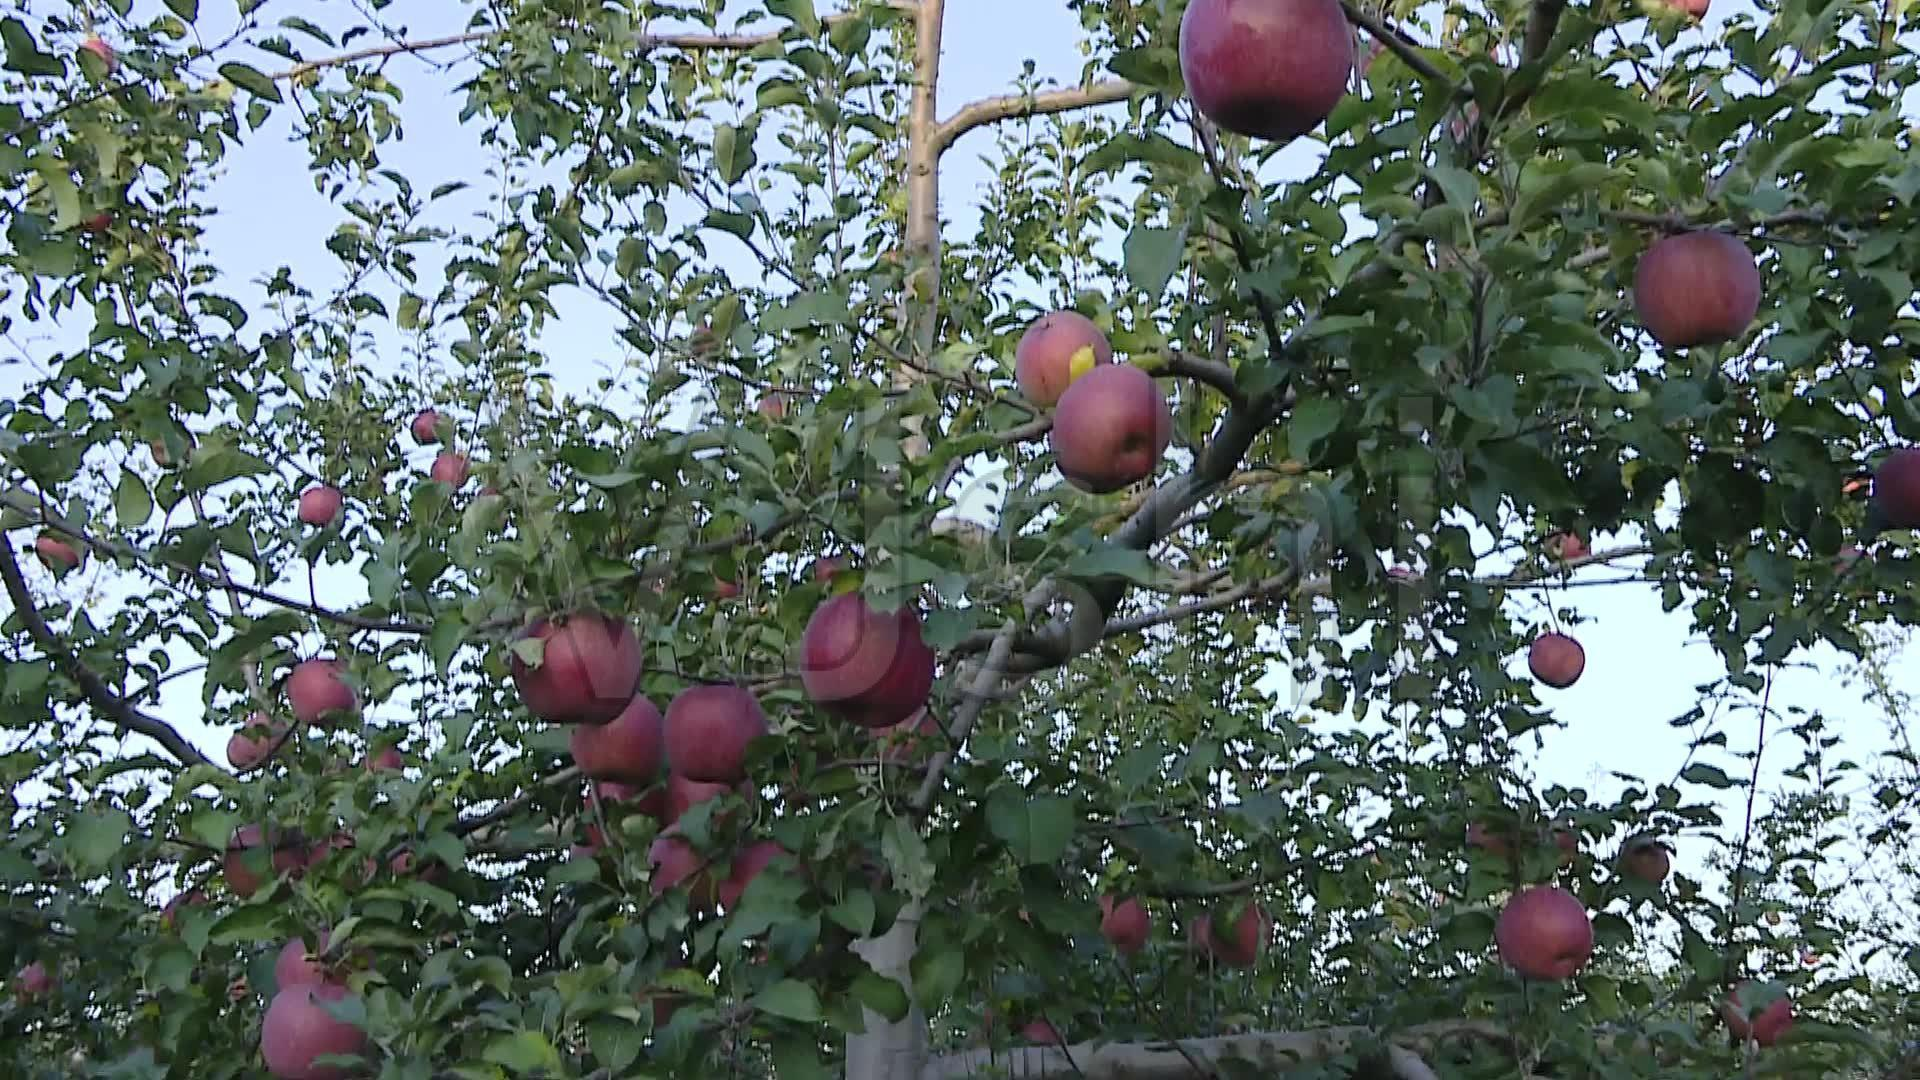apple: (1180, 3, 1349, 141), (800, 585, 931, 720), (1050, 365, 1172, 495), (506, 612, 642, 727), (1638, 229, 1764, 352), (659, 682, 779, 785), (262, 982, 373, 1077), (1497, 887, 1596, 986), (574, 694, 669, 790), (1018, 314, 1112, 407), (404, 409, 479, 487), (306, 498, 384, 566), (287, 662, 360, 729), (223, 823, 282, 901), (225, 712, 295, 774), (1726, 986, 1797, 1047), (1869, 450, 1920, 531), (1530, 632, 1586, 690), (1100, 894, 1151, 952), (1619, 837, 1673, 887), (36, 531, 88, 580), (334, 501, 378, 551), (298, 485, 343, 529), (434, 454, 469, 491)
